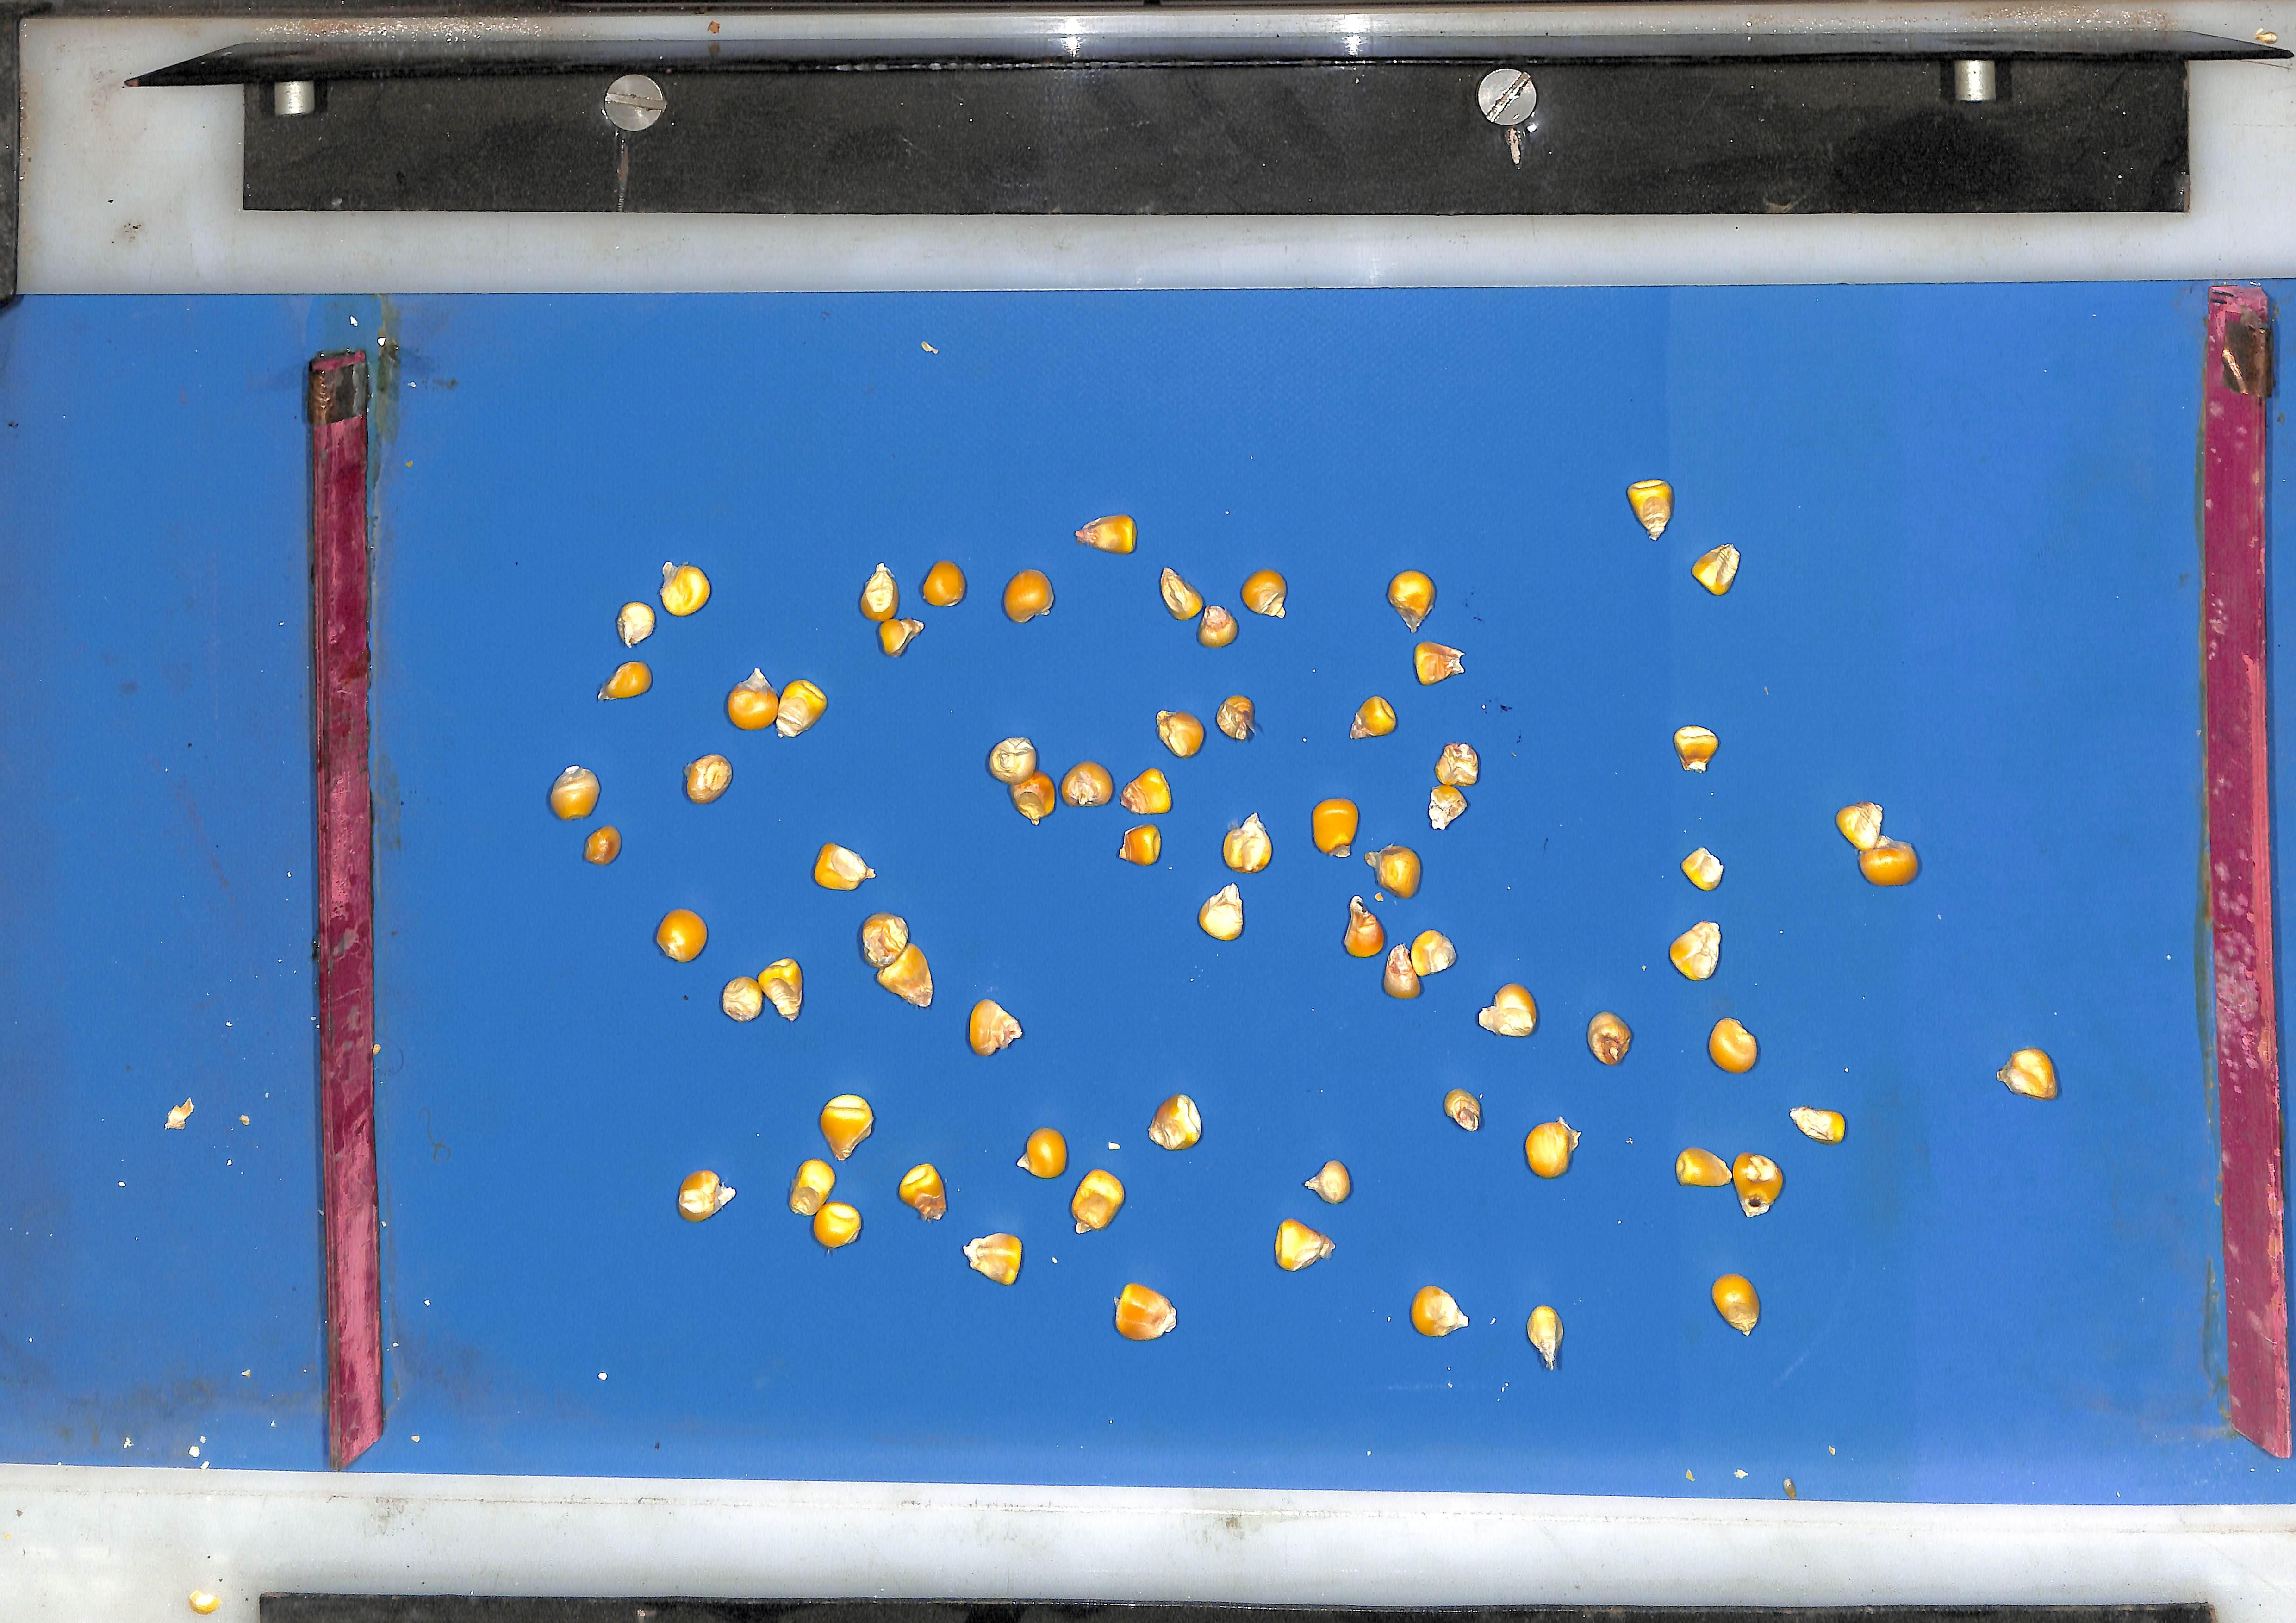Im-Sh: (1839, 801, 1922, 885), (724, 668, 825, 734), (988, 736, 1056, 823), (721, 958, 802, 1021), (877, 943, 933, 1008), (1730, 1154, 1787, 1217), (1116, 1285, 1177, 1342), (820, 1095, 872, 1161), (1070, 1170, 1125, 1235), (1478, 983, 1540, 1038), (1526, 1120, 1581, 1179), (1275, 1220, 1335, 1272), (2002, 1049, 2062, 1100), (968, 999, 1022, 1056), (963, 1234, 1022, 1286), (1672, 921, 1724, 980), (676, 1171, 734, 1223), (1388, 568, 1437, 630), (1149, 1094, 1202, 1151), (1223, 813, 1273, 872), (1715, 1275, 1763, 1337), (1369, 844, 1423, 898), (812, 843, 874, 890), (1413, 1287, 1470, 1338), (897, 1164, 946, 1222), (787, 1159, 835, 1217), (1630, 477, 1676, 538), (547, 765, 598, 819), (1002, 568, 1054, 622), (659, 561, 709, 615), (859, 912, 908, 968), (654, 910, 706, 962), (1711, 1018, 1761, 1073), (1313, 798, 1360, 856), (1198, 883, 1244, 941), (1345, 895, 1387, 957), (1694, 542, 1743, 593), (1060, 760, 1114, 806), (1018, 1129, 1067, 1179), (1528, 1307, 1566, 1371), (1589, 1012, 1635, 1066), (858, 562, 898, 621), (683, 753, 731, 803), (1075, 513, 1137, 552), (812, 1203, 861, 1250), (1121, 768, 1171, 814), (1160, 567, 1204, 618), (1157, 709, 1205, 756), (1677, 1148, 1734, 1188), (1242, 568, 1288, 616), (1383, 944, 1424, 999), (595, 660, 651, 699), (1412, 930, 1457, 977), (1792, 1107, 1849, 1144), (1416, 641, 1465, 683), (1676, 724, 1721, 770), (921, 558, 965, 605), (1351, 695, 1398, 738), (1307, 1161, 1353, 1205), (1436, 743, 1481, 786), (720, 977, 763, 1022), (877, 615, 924, 655), (1684, 847, 1726, 891), (1118, 824, 1162, 866), (1216, 694, 1256, 740), (1198, 604, 1239, 646), (1430, 784, 1468, 830), (615, 600, 653, 645), (1445, 1089, 1482, 1132), (582, 825, 620, 865), (1680, 1151, 1724, 1184)
